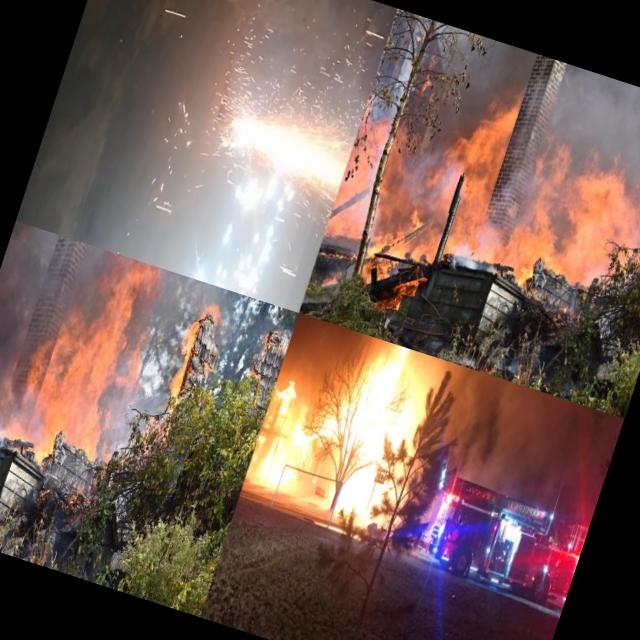fire: (237, 0, 397, 313), (270, 326, 442, 544), (5, 306, 150, 460), (361, 120, 474, 292), (507, 134, 640, 268), (441, 96, 520, 254), (466, 223, 605, 309), (244, 364, 314, 492), (27, 252, 102, 336), (162, 292, 212, 403), (203, 298, 230, 332)
smoke: (434, 368, 601, 512), (537, 61, 640, 172), (0, 221, 67, 388), (128, 284, 196, 414), (459, 34, 538, 108), (46, 238, 114, 320), (162, 270, 252, 310), (282, 315, 330, 374), (0, 380, 16, 447)
